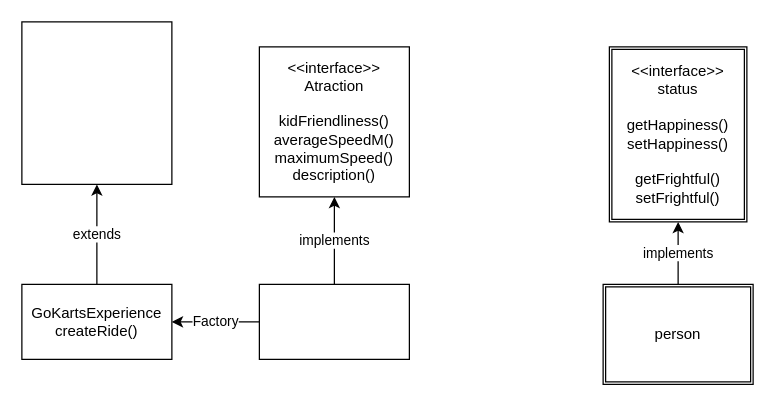
This 775x406 diagram has some shape labels left out. Each missing label, with the box of its shape:
GoKart: (258, 283, 409, 359)
RideExperience ride() createRide(): (21, 21, 172, 184)
